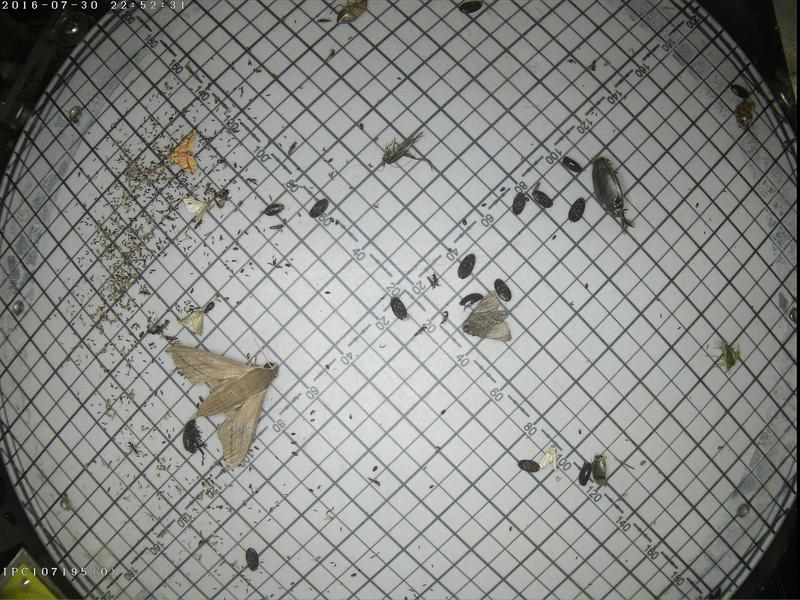holotrichia oblita: (179, 417, 206, 453)
